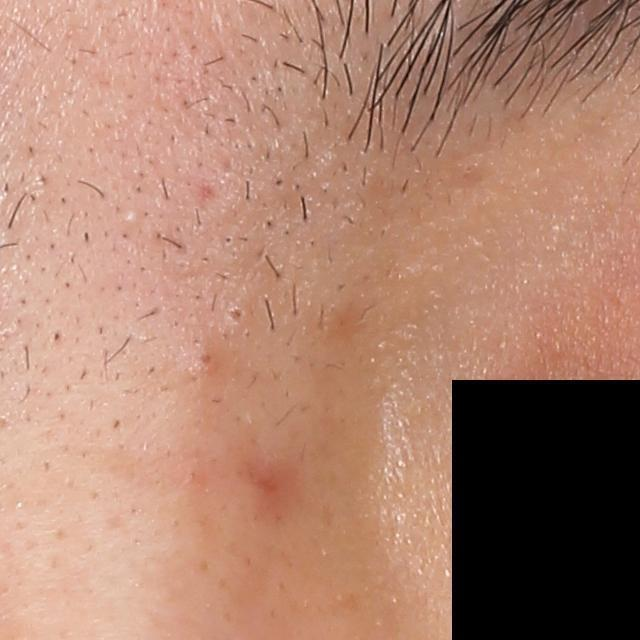comedo: (192, 348, 218, 375), (226, 303, 247, 328), (125, 207, 141, 228)
